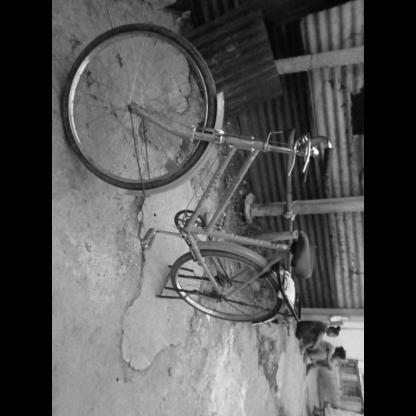Bicycle: (56, 2, 344, 352)
